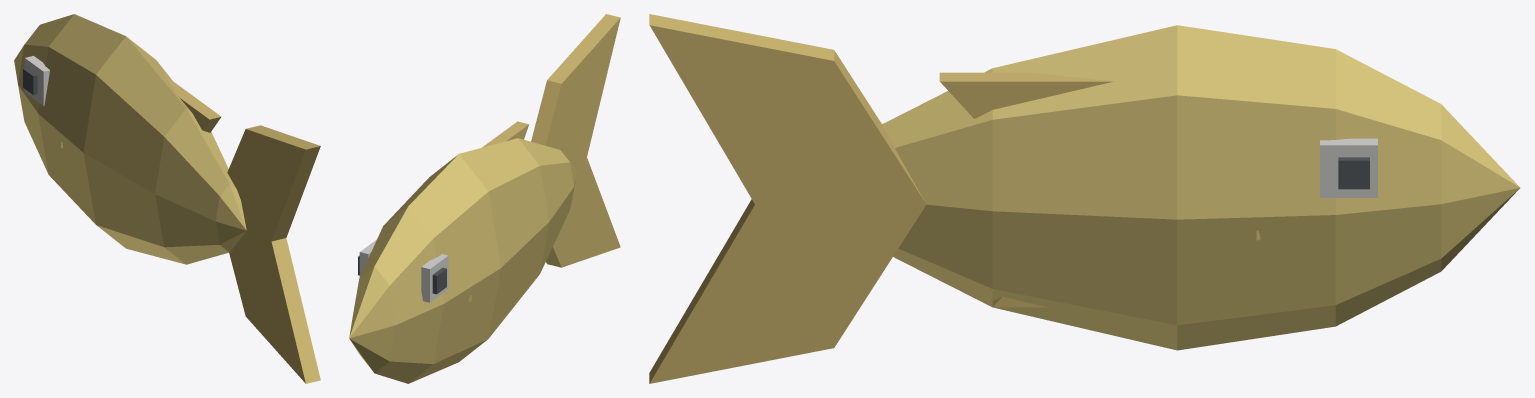
Rendered from fish_yellow_tang.glb.
3 renders of one model, left to right at view 1: azimuth 30°, elevation 25°; view 2: azimuth 150°, elevation 25°; view 3: azimuth 270°, elevation 25°, orthographic. The views are drawn at different scales.
Parts seen in each view (by area): view 1: fish_yellow_tang; view 2: fish_yellow_tang; view 3: fish_yellow_tang.
Boxes of the visible parts, left/top/right/bottom form: fish_yellow_tang: left=14, top=14, right=320, bottom=383; fish_yellow_tang: left=349, top=14, right=620, bottom=383; fish_yellow_tang: left=649, top=14, right=1520, bottom=383.
Bounding box in the file's own units: 0.0571 × 0.15 × 0.33.
